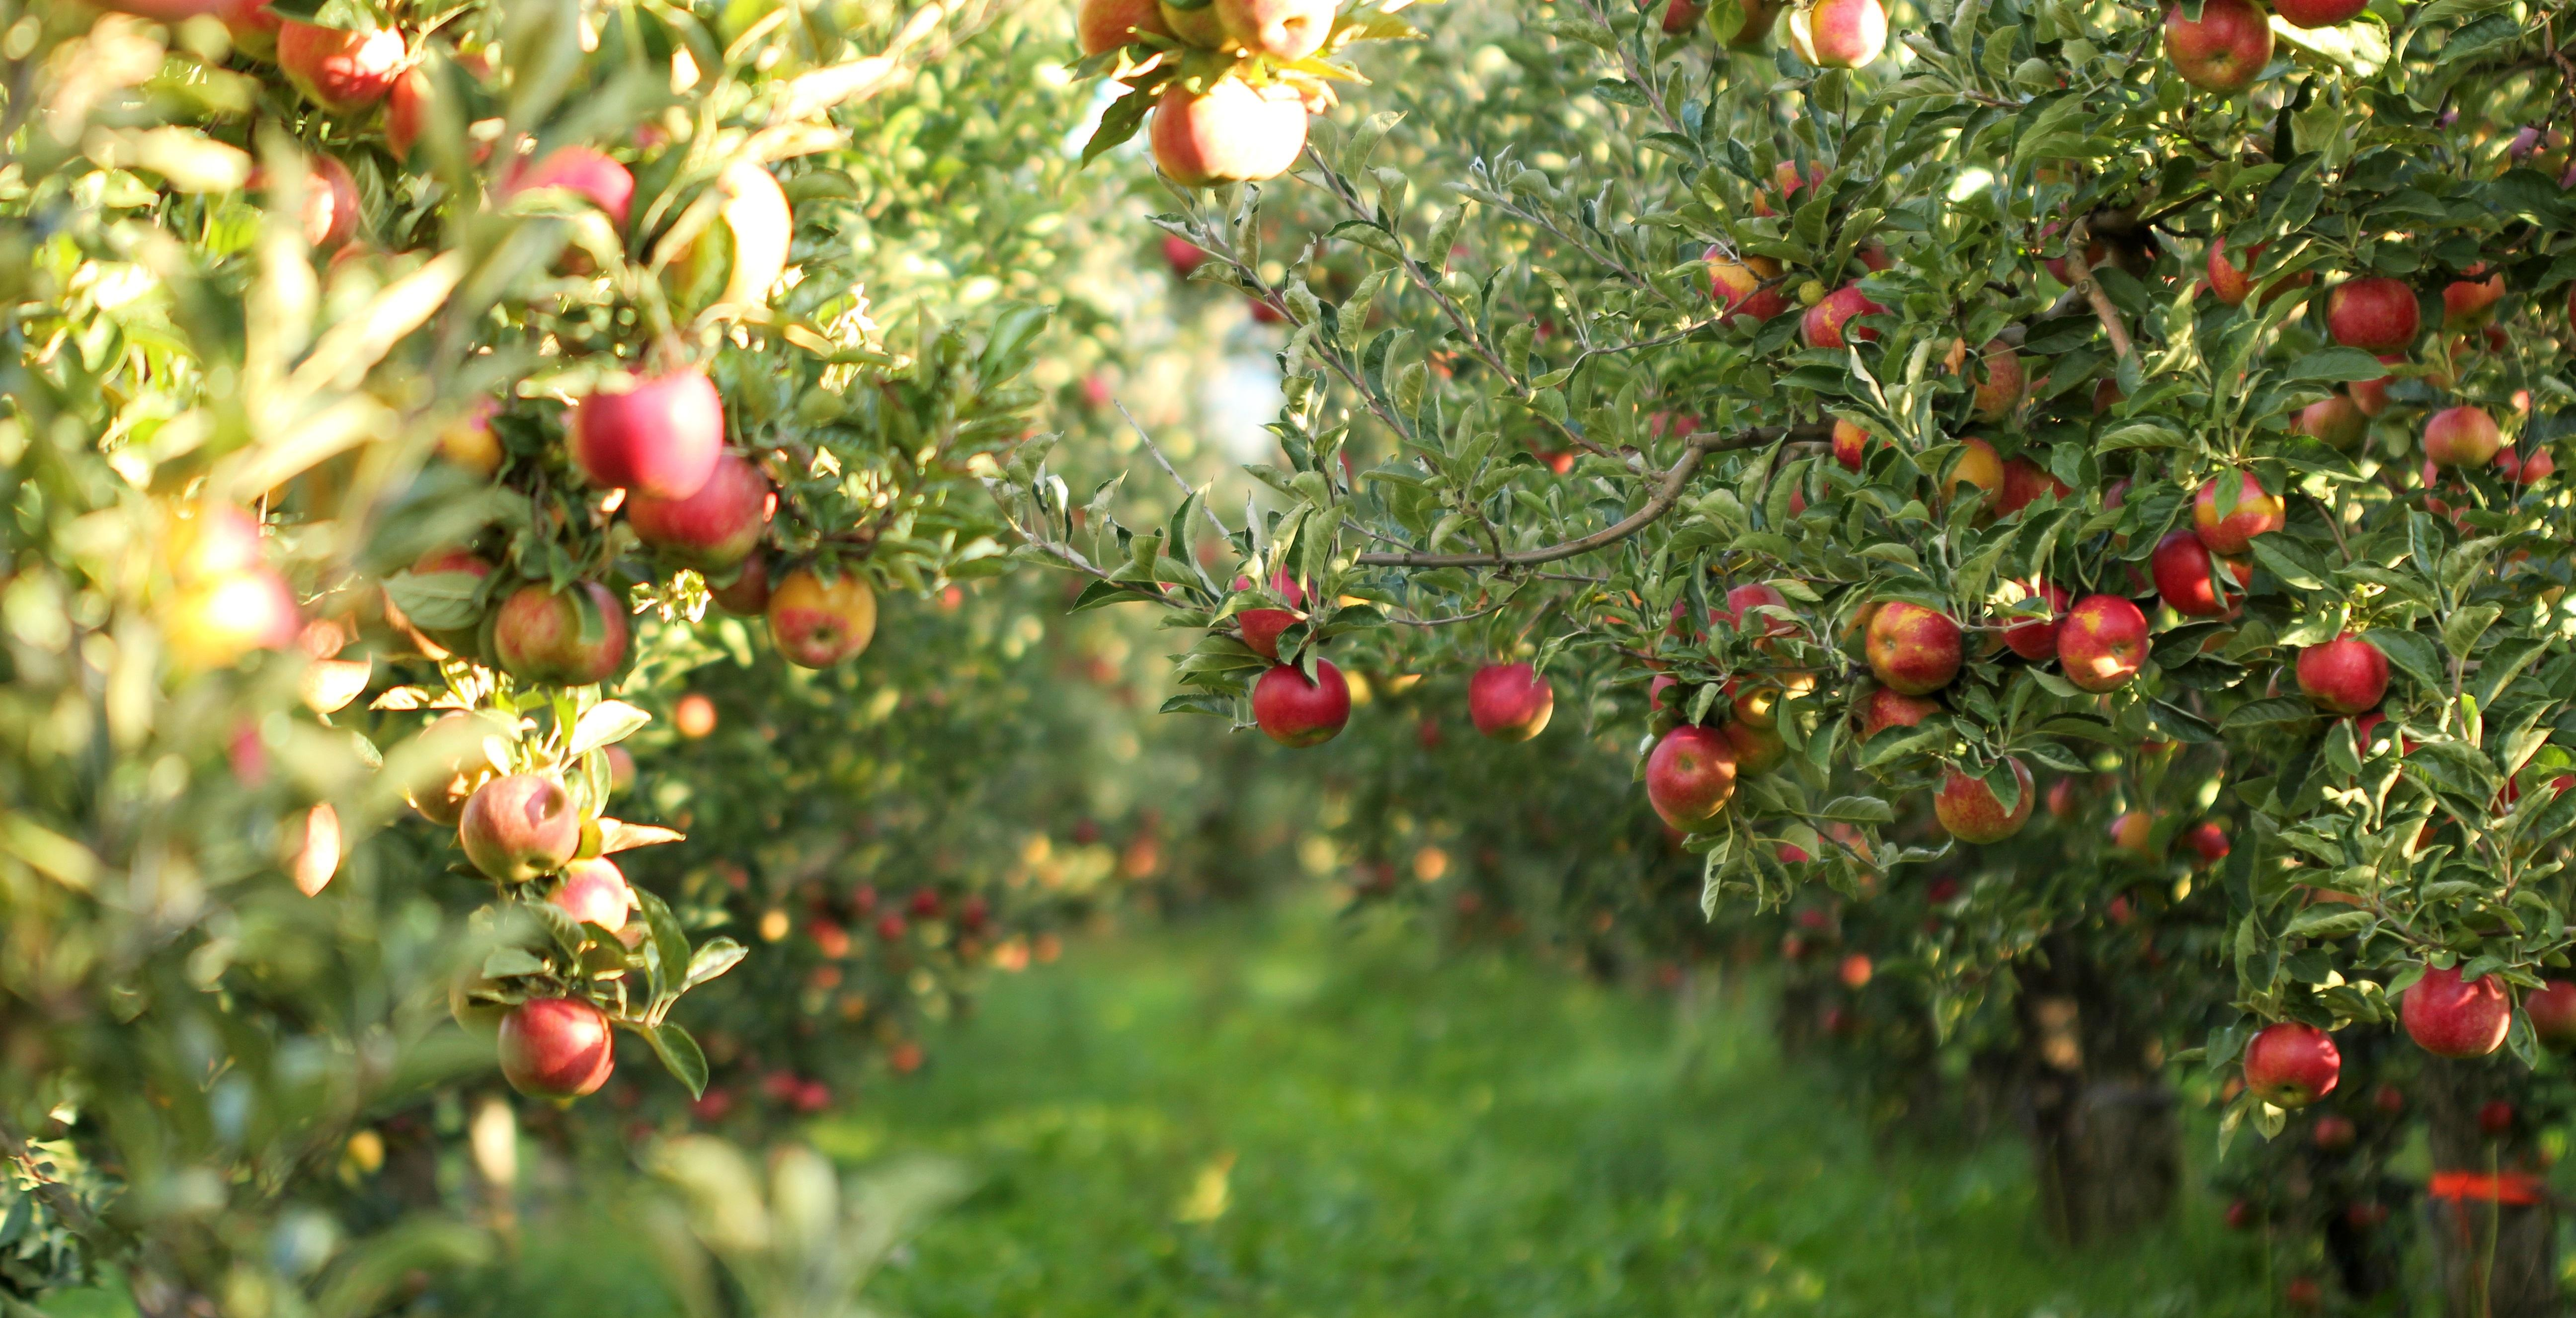Apple Fresh: (551, 299, 765, 536)
